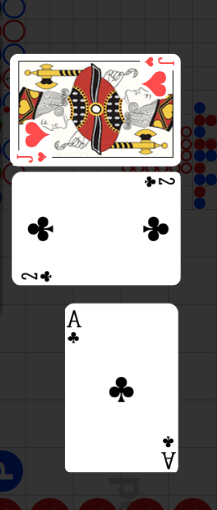2C: (142, 175, 176, 189)
AC: (158, 432, 176, 470)
JH: (143, 55, 175, 68)
